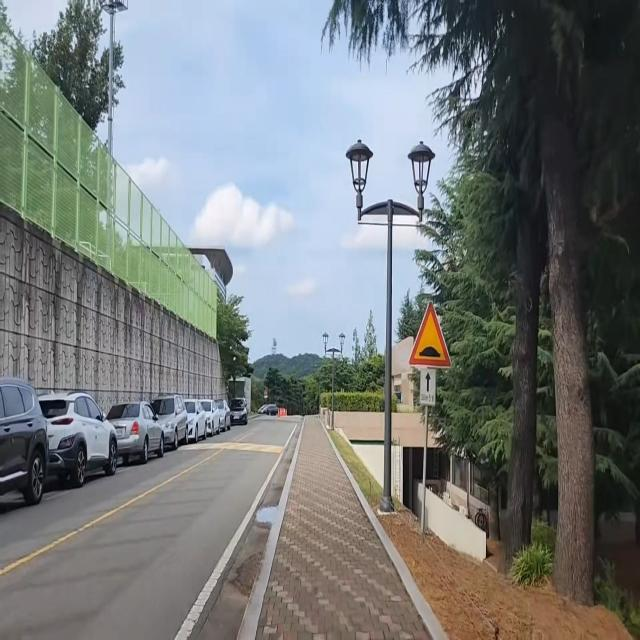obstacle: (92, 366, 259, 489), (0, 379, 121, 523)
road: (0, 418, 302, 640)
sidewalk: (245, 418, 454, 640)
